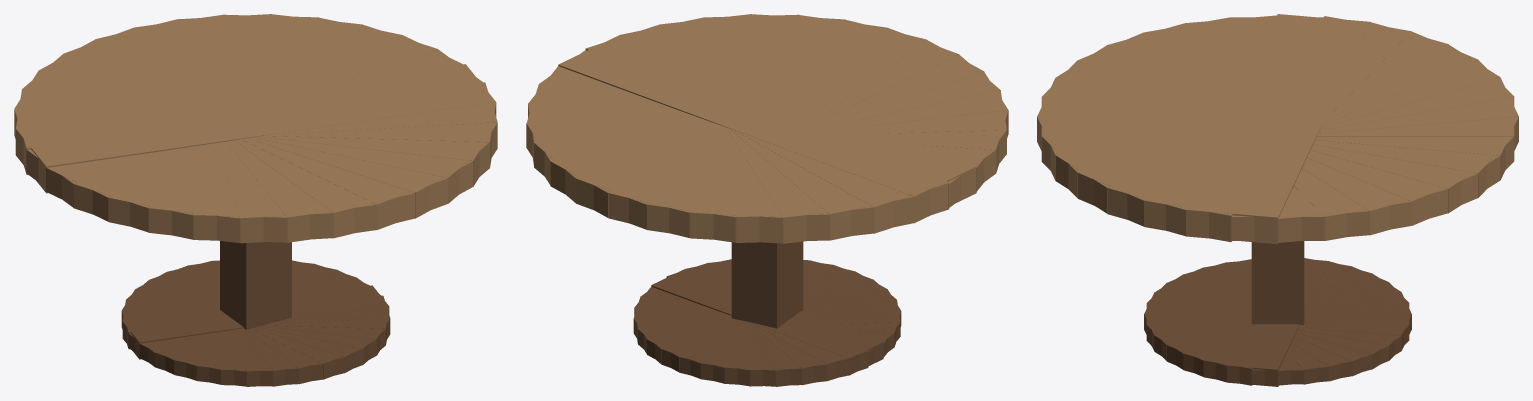
Rendered from coffee_round.glb.
3 views of the same model, side by side, from view 1: azimuth 30°, elevation 25°; view 2: azimuth 150°, elevation 25°; view 3: azimuth 270°, elevation 25° (orthographic).
Visible parts, largest first — view 1: coffee_round; view 2: coffee_round; view 3: coffee_round.
Boxes of the visible parts, left/top/right/bottom form: coffee_round: left=14, top=14, right=497, bottom=386; coffee_round: left=526, top=14, right=1008, bottom=386; coffee_round: left=1037, top=14, right=1518, bottom=386.
Bounding box in the file's own units: 0.9178 × 0.451 × 0.9178.
